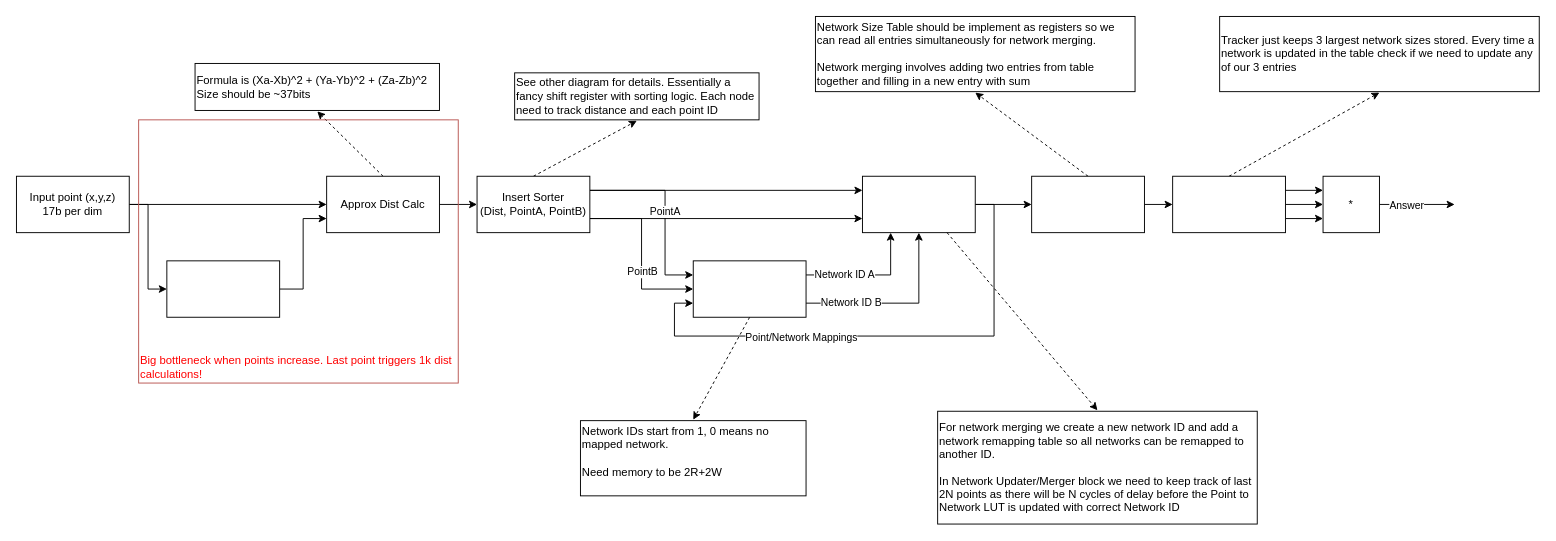
Some shapes in this 1556 by 541 pixel diagram are drawn without their labels. Here are the shapes that lost their labels. From the top down, the centre of each, then its label:
At (x=918, y=204): "Point Network Updater/Merger".
At (x=1087, y=204): "Network Size Table (512 entries)".
At (x=1228, y=204): "Network Size Tracker".
At (x=223, y=288): "Point Memory 1024x51b".
At (x=749, y=288): "Point to Network LUT (1024x9b)".
